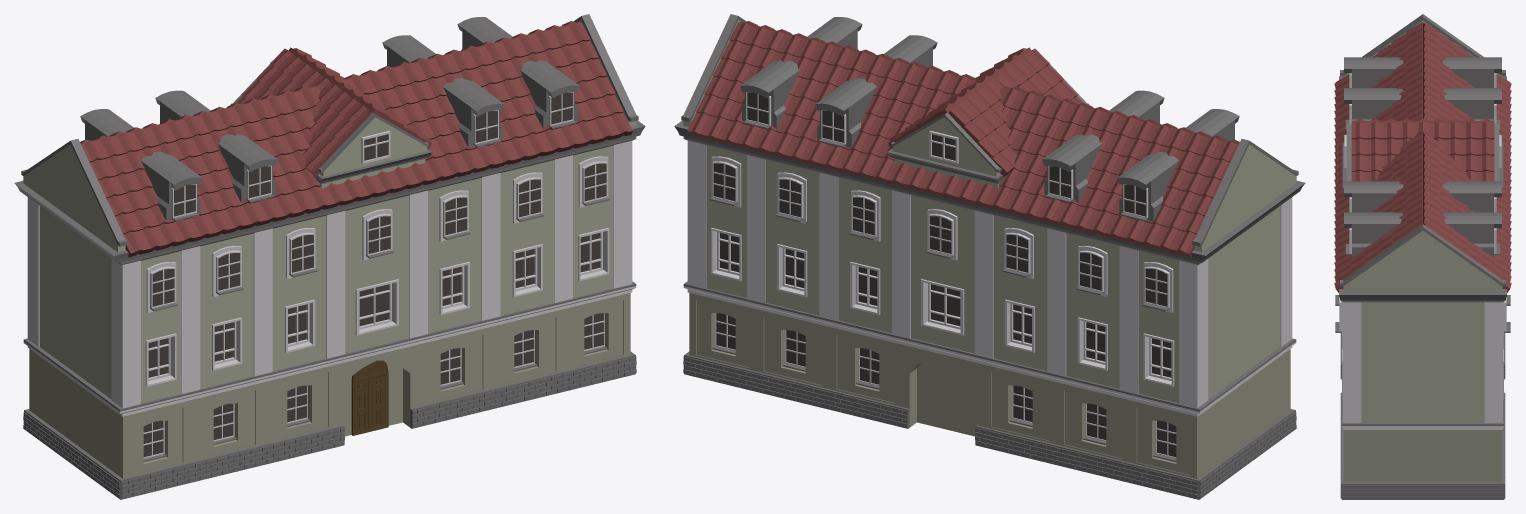
Rendered from townhouse1.glb.
3 views of the same model, side by side, from view 1: azimuth 30°, elevation 25°; view 2: azimuth 150°, elevation 25°; view 3: azimuth 270°, elevation 25° (orthographic). The views are drawn at different scales.
Parts seen in each view (by area): view 1: Building1_Large; view 2: Building1_Large; view 3: Building1_Large.
Part boxes in pixels (x1,y1,x2,y2): Building1_Large: (14, 14, 645, 499); Building1_Large: (674, 14, 1305, 499); Building1_Large: (1334, 14, 1511, 499).
Bounding box in the file's own units: 7.99 × 4.67 × 2.74.
1 material, 1 textured.
